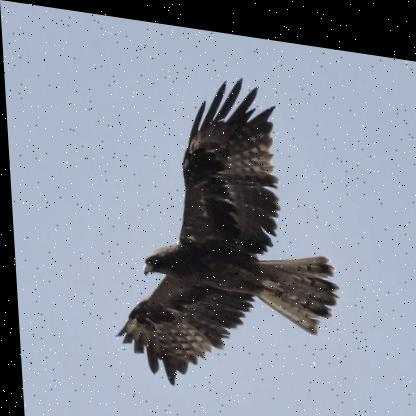Burung: (97, 54, 342, 399)
